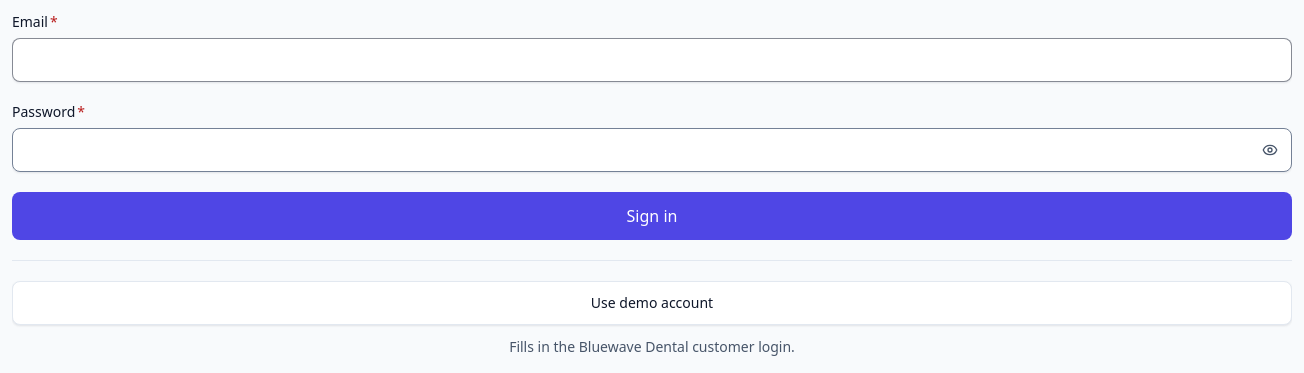
Test: LoginForm › fills the seeded customer login from the demo button
Click the button "Use demo account". click: (652, 303)
box: [12,281,1292,325]
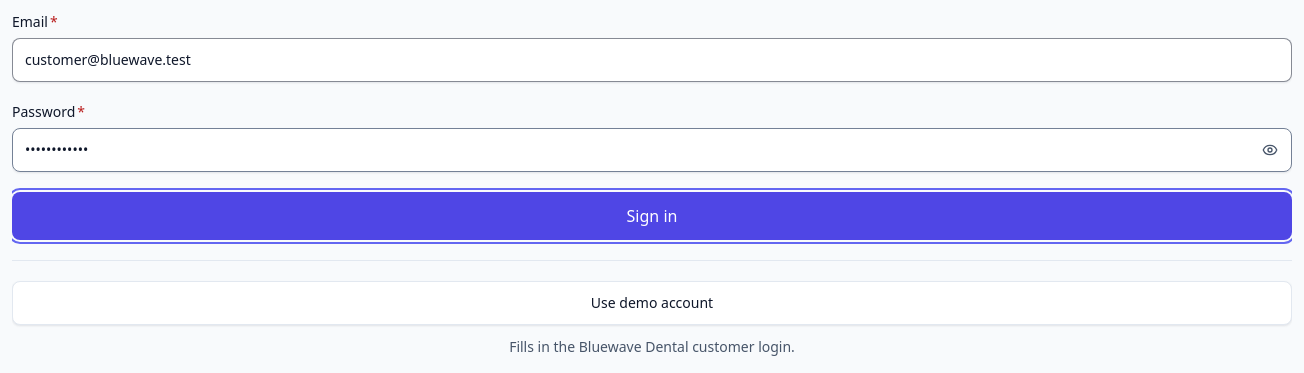
Expected: the field labelled "Email*" holds "customer@bluewave.test", [12,38,1292,82]
Expected: the password field labelled "Password*" holds "Password123!", [12,128,1292,172]
